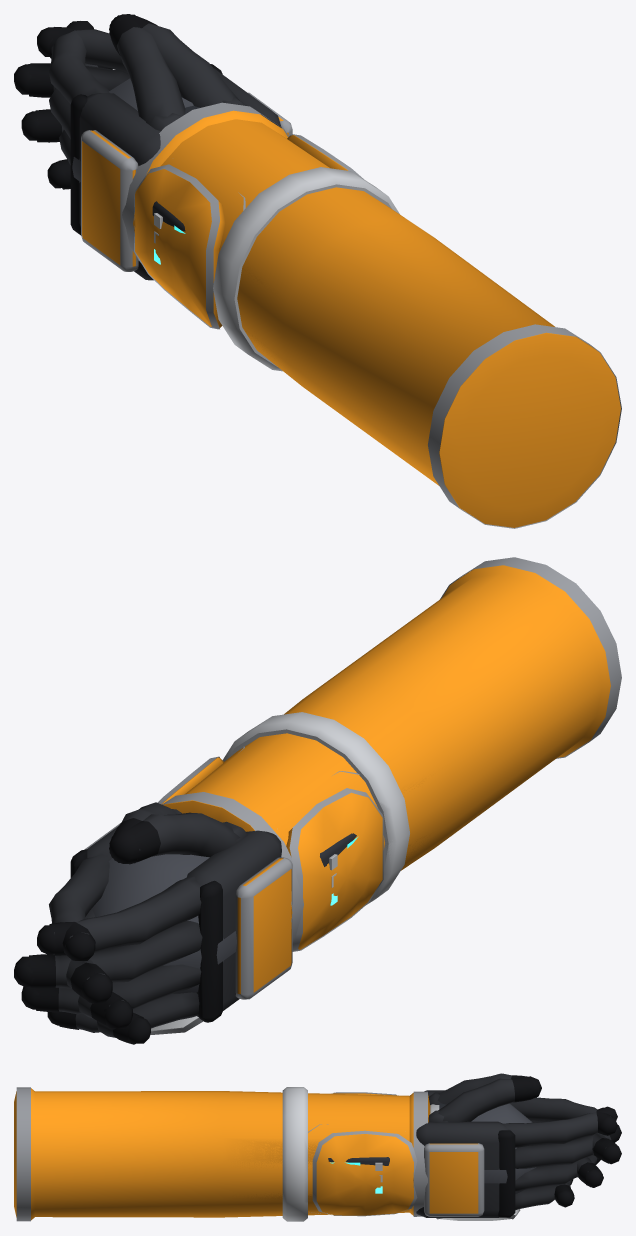
The model's file is crewmate_arm.glb.
3 views of the same model, one above another, from view 1: azimuth 30°, elevation 25°; view 2: azimuth 150°, elevation 25°; view 3: azimuth 270°, elevation 25° (orthographic). The views are drawn at different scales.
Parts seen in each view (by area): view 1: UpperRight, UpperLeft, ArmLeft, ArmRight; view 2: UpperRight, ArmLeft, UpperLeft, ArmRight, ForearmLeft; view 3: UpperRight, UpperLeft, ArmRight, ArmLeft, ForearmRight.
Boxes of the visible parts, x1,y1,x2,y2 form: UpperRight: (72,78,621,528); UpperLeft: (73,79,617,527); ArmLeft: (49,14,185,280); ArmRight: (14,14,292,189); UpperRight: (92,557,621,1034); ArmLeft: (14,812,292,1032); UpperLeft: (93,557,621,1034); ArmRight: (49,802,181,1044); ForearmLeft: (320,771,376,905); UpperRight: (14,1087,531,1221); UpperLeft: (14,1087,536,1221); ArmRight: (416,1076,621,1217); ArmLeft: (424,1073,621,1207); ForearmRight: (308,1103,446,1213).
Bounding box in the file's own units: 0.1277 × 0.1445 × 0.5747.
